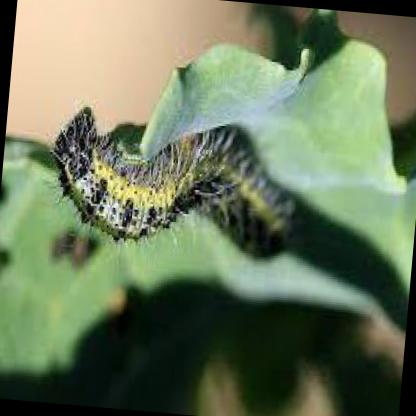pieris: (48, 112, 301, 259)
